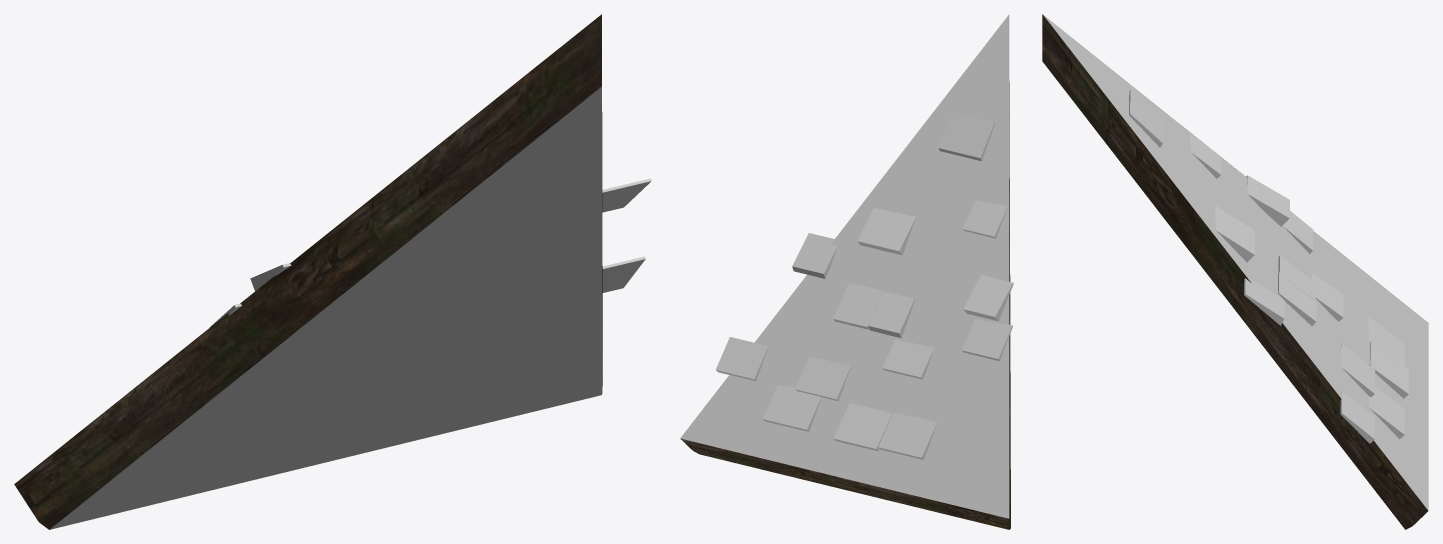
The picture shows the model from 3 angles, left to right: view 1: azimuth 30°, elevation 25°; view 2: azimuth 150°, elevation 25°; view 3: azimuth 270°, elevation 25°; orthographic projection. The views are drawn at different scales.
Visible parts, largest first — view 1: SM_BB_T3_Roof_Triangle_Large_Inverted_LOD0; view 2: SM_BB_T3_Roof_Triangle_Large_Inverted_LOD0; view 3: SM_BB_T3_Roof_Triangle_Large_Inverted_LOD0.
Boxes of the visible parts, x1,y1,x2,y2 form: SM_BB_T3_Roof_Triangle_Large_Inverted_LOD0: [14, 14, 651, 529]; SM_BB_T3_Roof_Triangle_Large_Inverted_LOD0: [680, 14, 1013, 529]; SM_BB_T3_Roof_Triangle_Large_Inverted_LOD0: [1042, 14, 1428, 529].
Size of the model in its own units: 3.19 by 3.37 by 2.76.
